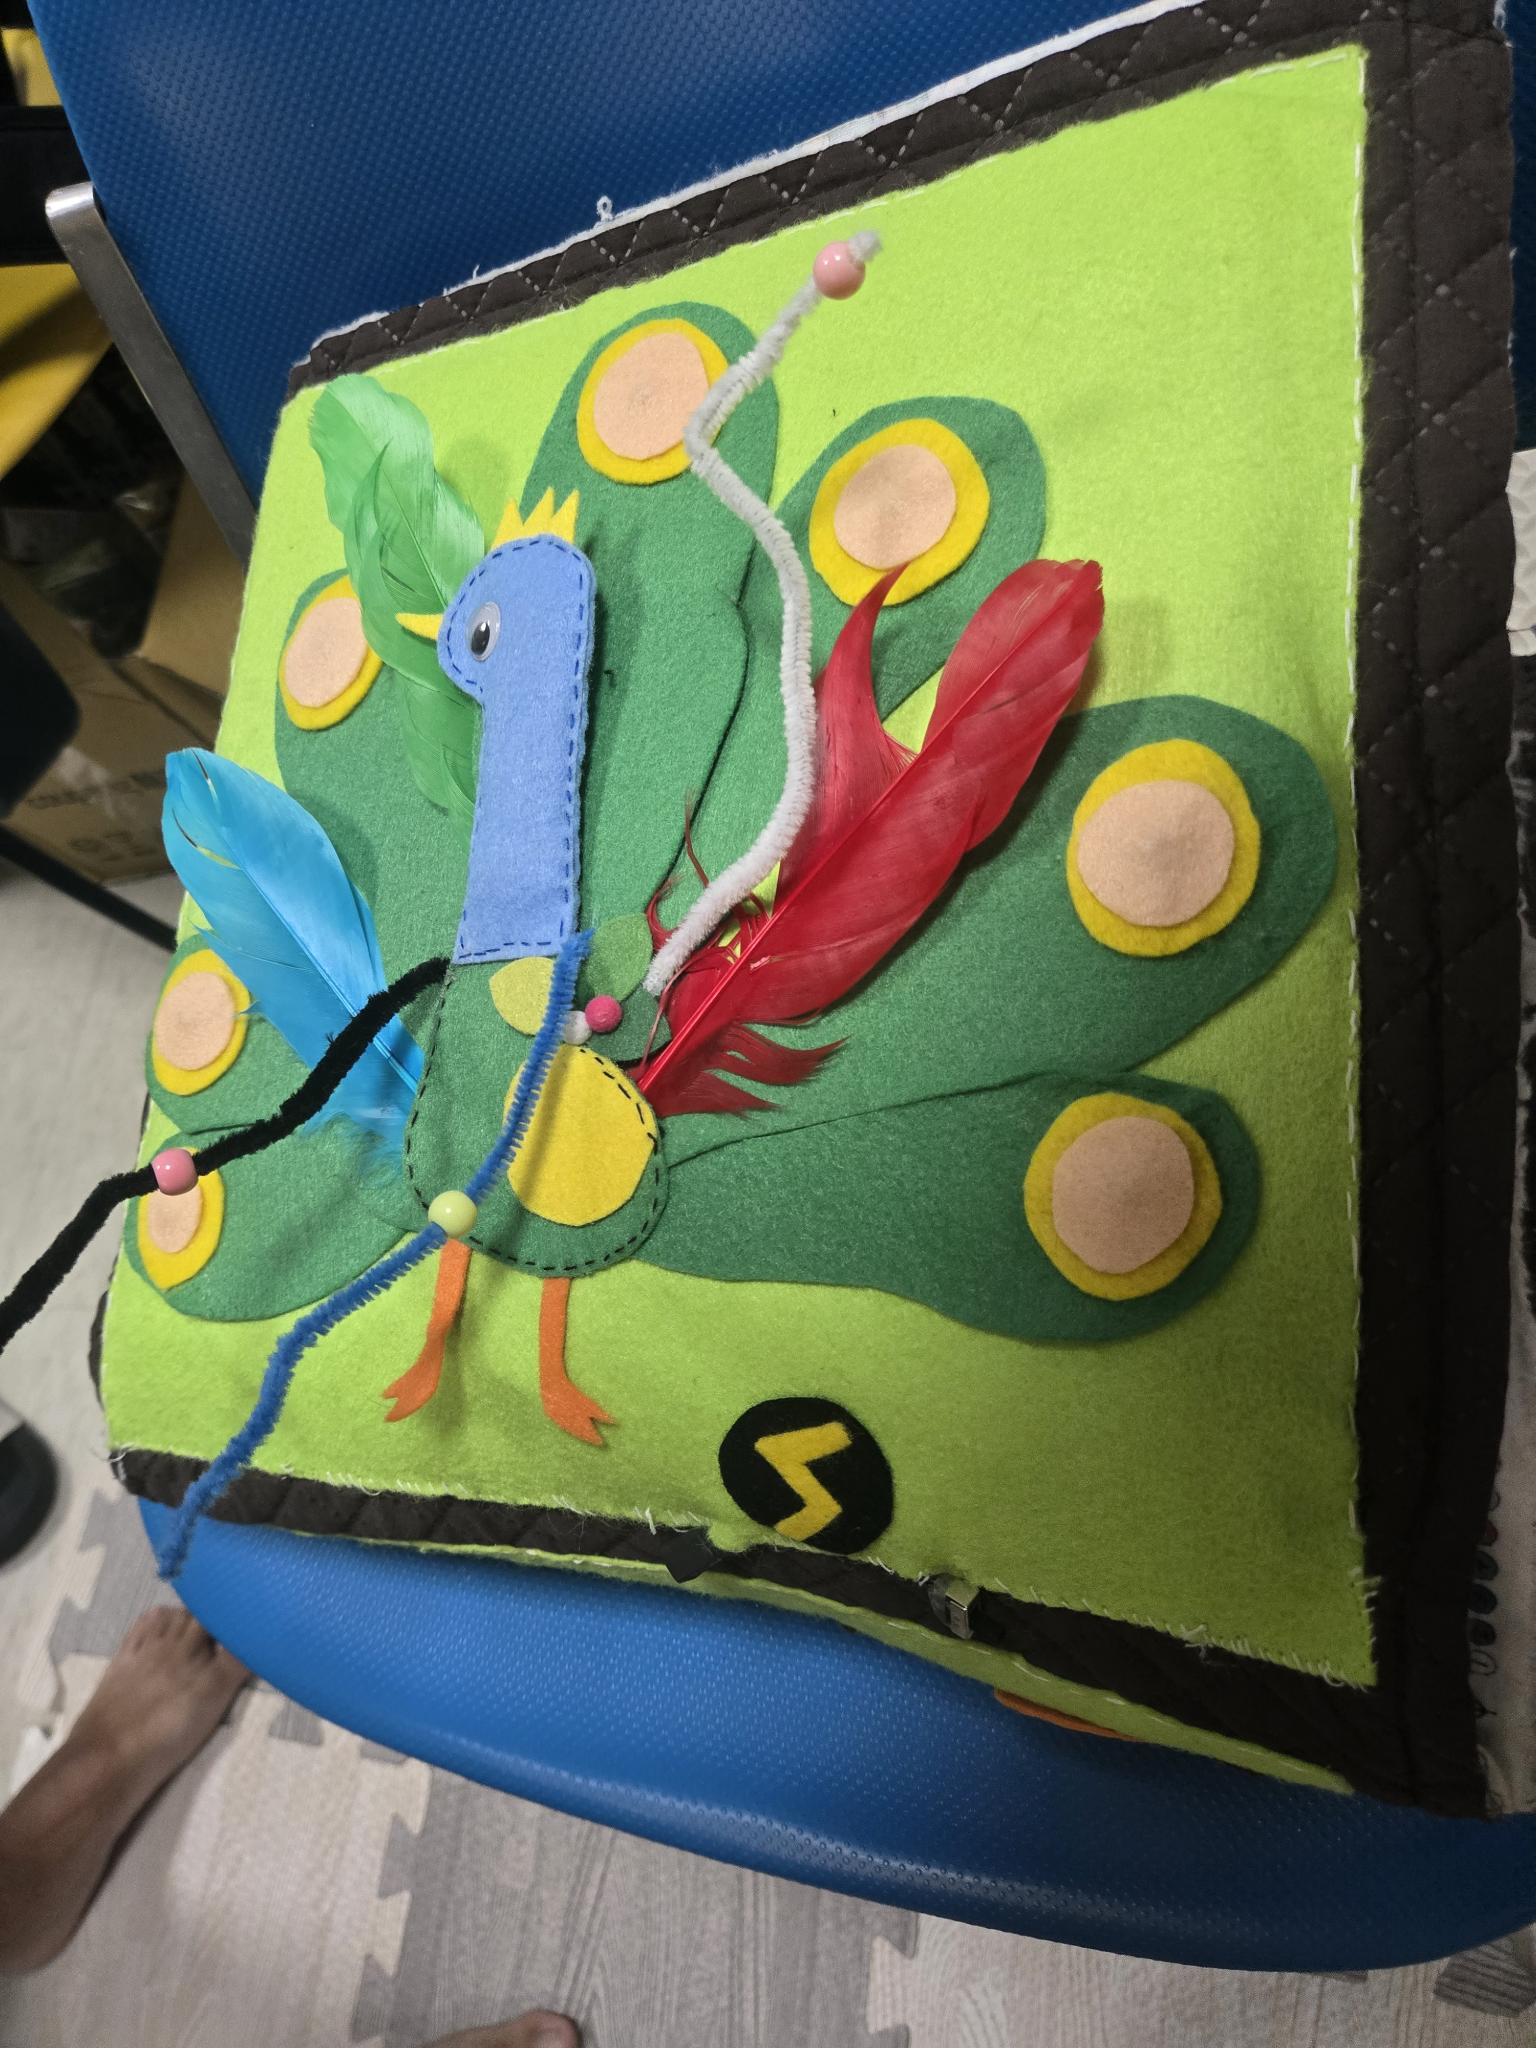bead: (794, 223, 883, 323), (134, 1122, 210, 1209), (424, 1163, 489, 1255)
